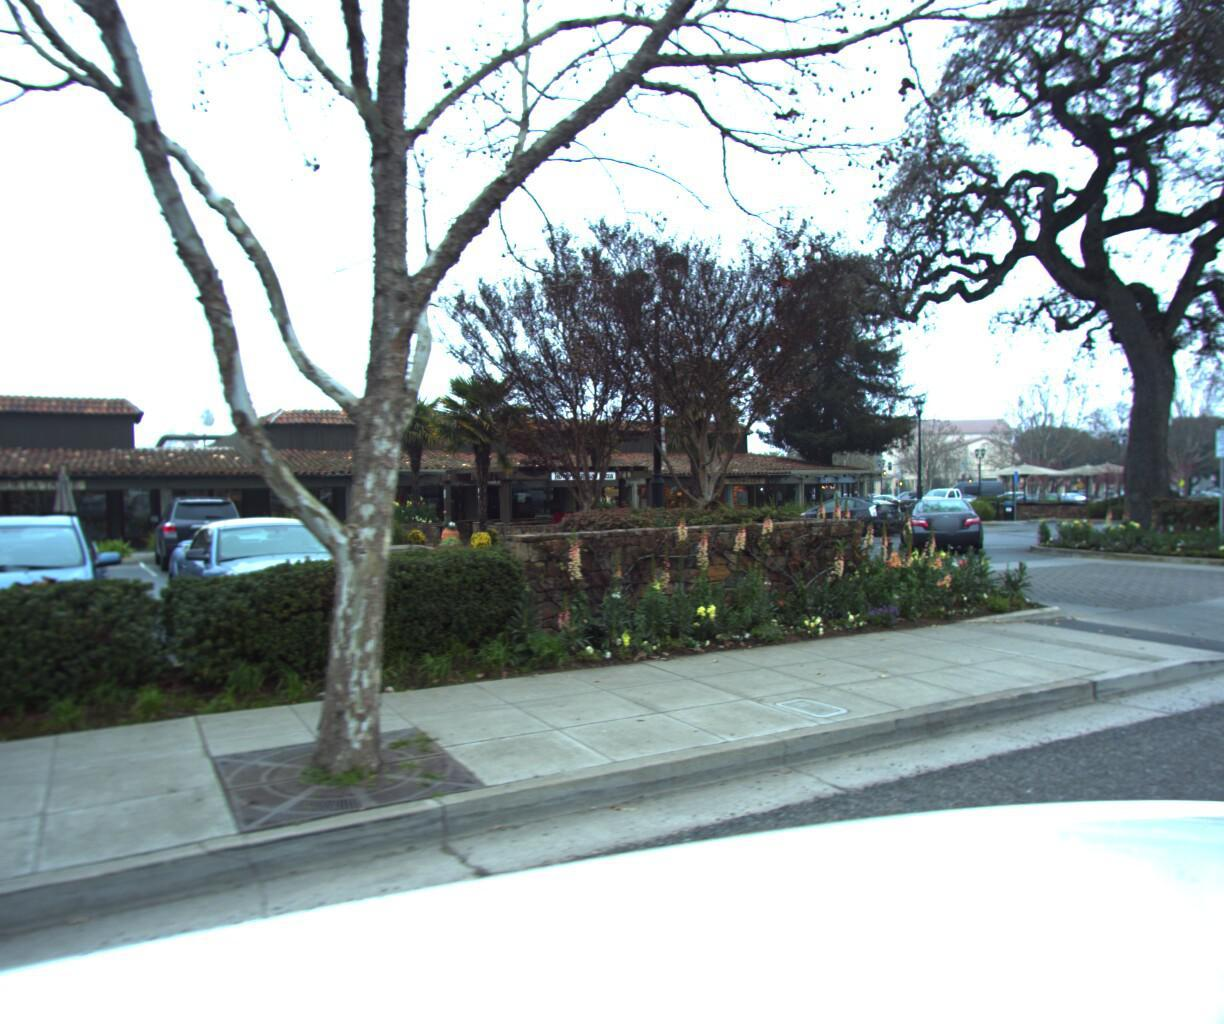car: (159, 504, 390, 670), (0, 509, 114, 710), (902, 487, 984, 549)
